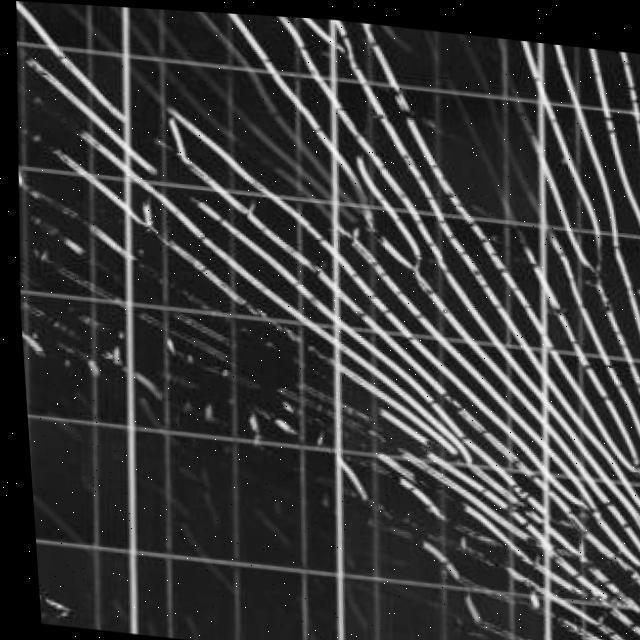Anomaly Solar Panel: (16, 1, 640, 640)
Structural Damage: (16, 1, 640, 640)
